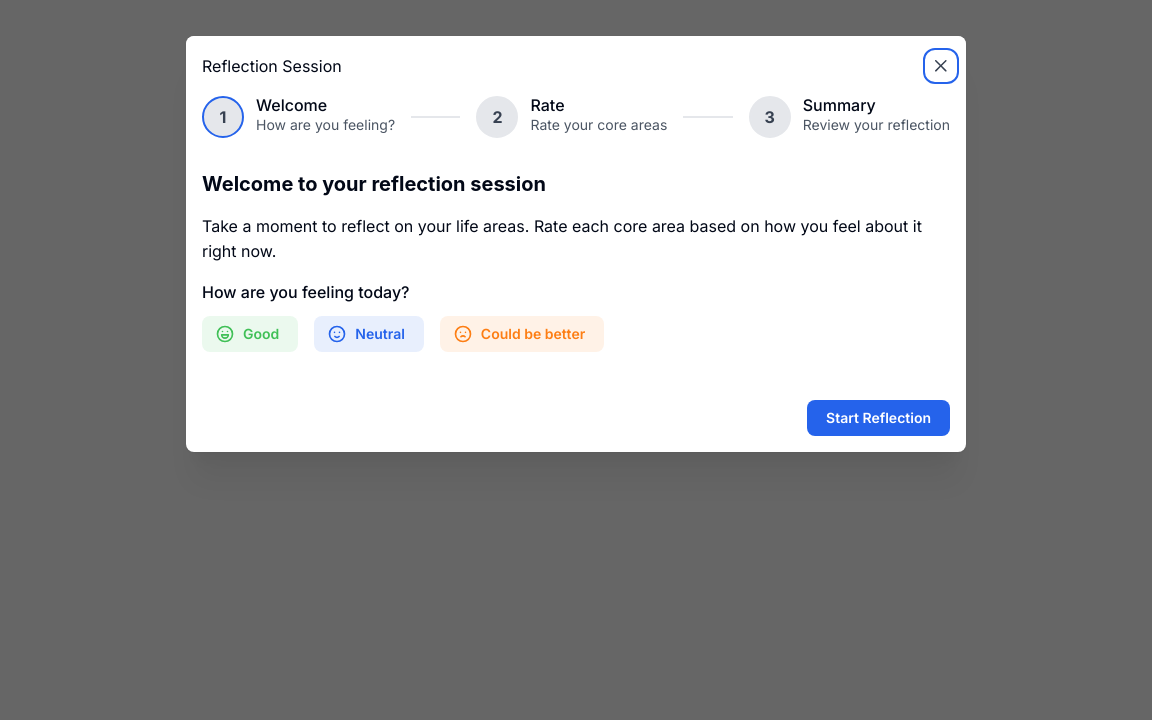
Test case: ReflectModal › navigates to summary step
Click the button "Start Reflection" at (879, 418), box left=807, top=400, right=950, bottom=436
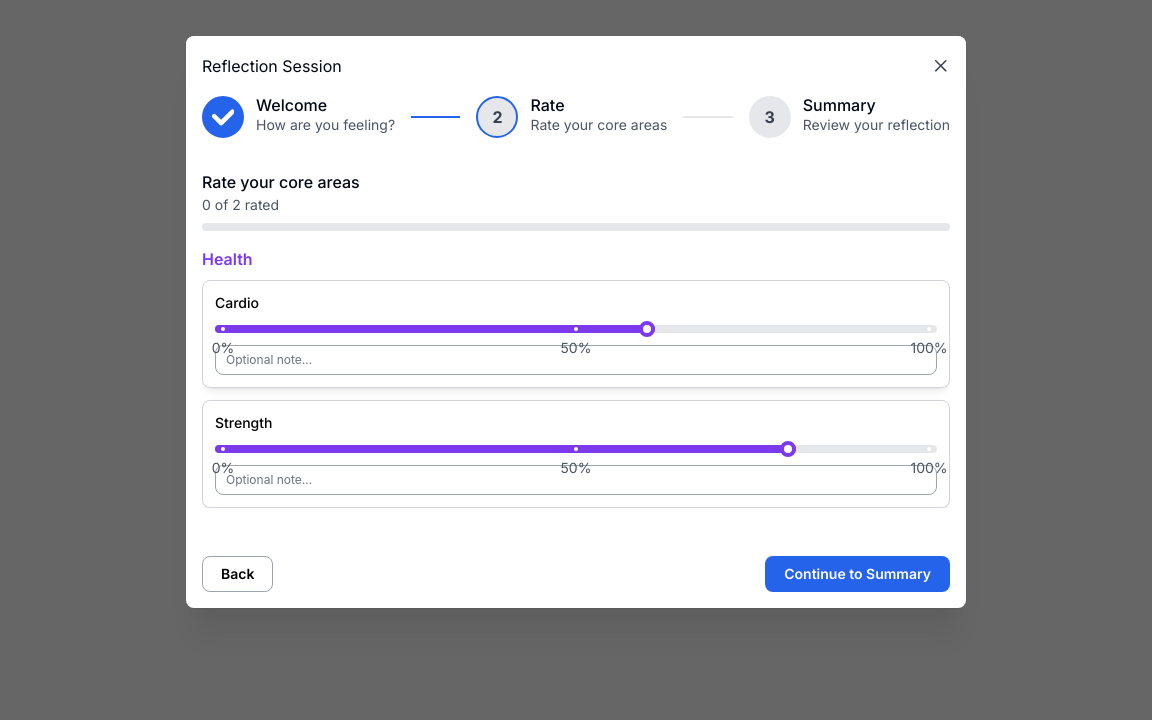
Click the button "Continue to Summary" at (858, 574), box left=765, top=556, right=950, bottom=592
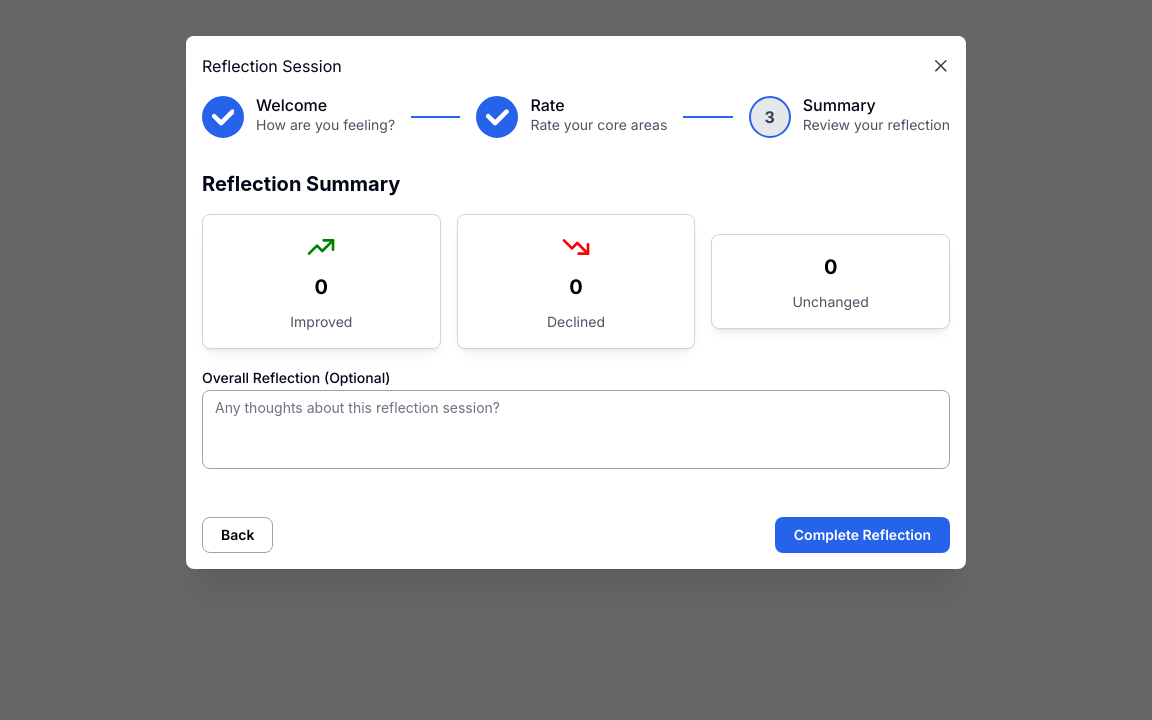
Expected: the heading "Reflection Summary" is shown, left=202, top=172, right=400, bottom=196
